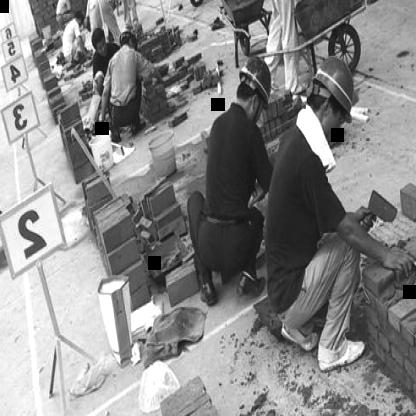head: (88, 24, 108, 60)
helmet: (305, 52, 361, 142), (234, 50, 276, 131), (118, 20, 142, 60)
